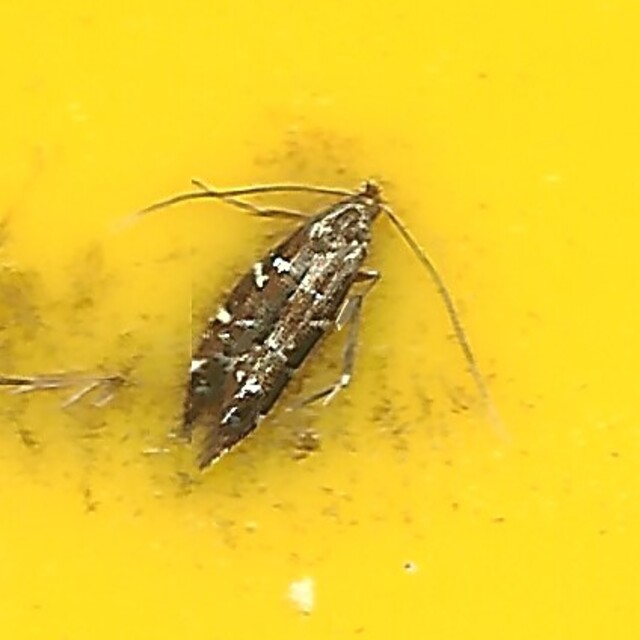Lepidoptera: (151, 160, 489, 480)
